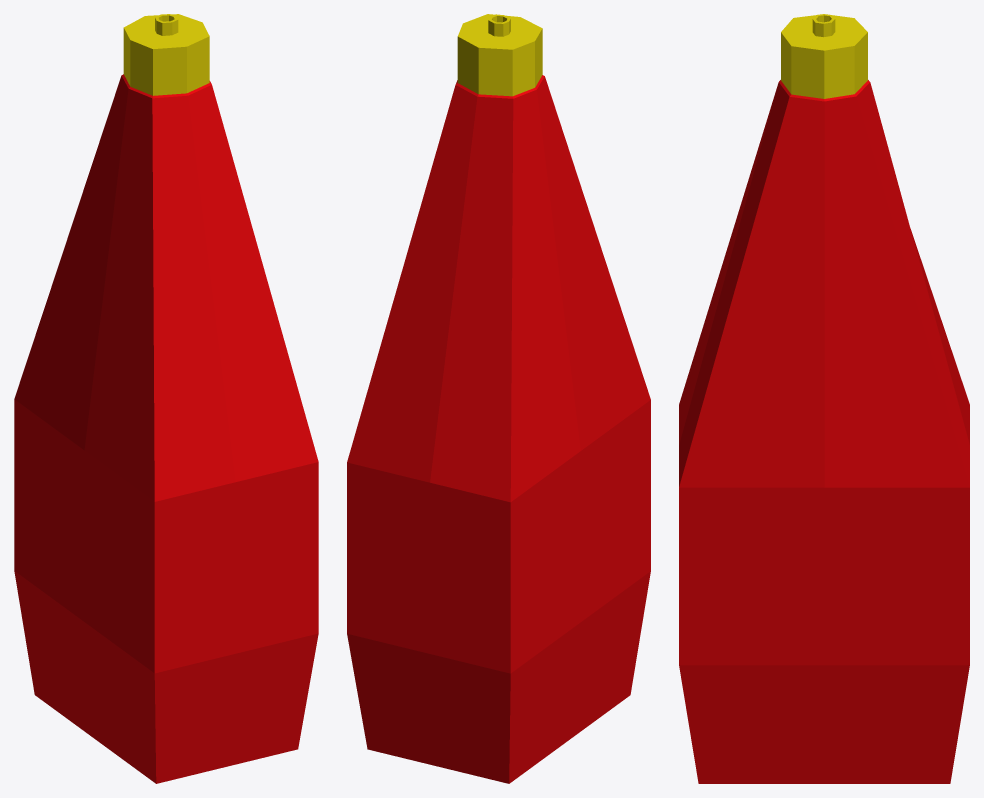
Rendered from ketchup.fbx.
The picture shows the model from 3 angles, left to right: view 1: azimuth 30°, elevation 25°; view 2: azimuth 150°, elevation 25°; view 3: azimuth 270°, elevation 25°; orthographic projection. The views are drawn at different scales.
Parts seen in each view (by area): view 1: Cube, Cube.001; view 2: Cube, Cube.001; view 3: Cube, Cube.001.
Boxes of the visible parts, x1,y1,x2,y2 form: Cube: (14,74,318,783); Cube.001: (123,14,209,95); Cube: (347,75,650,783); Cube.001: (457,14,542,96); Cube: (679,80,969,783); Cube.001: (781,14,867,98).
Size of the model in its own units: 135 by 553 by 200.
